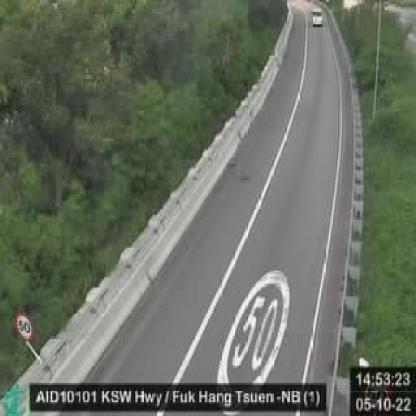Car: (308, 5, 322, 26)
